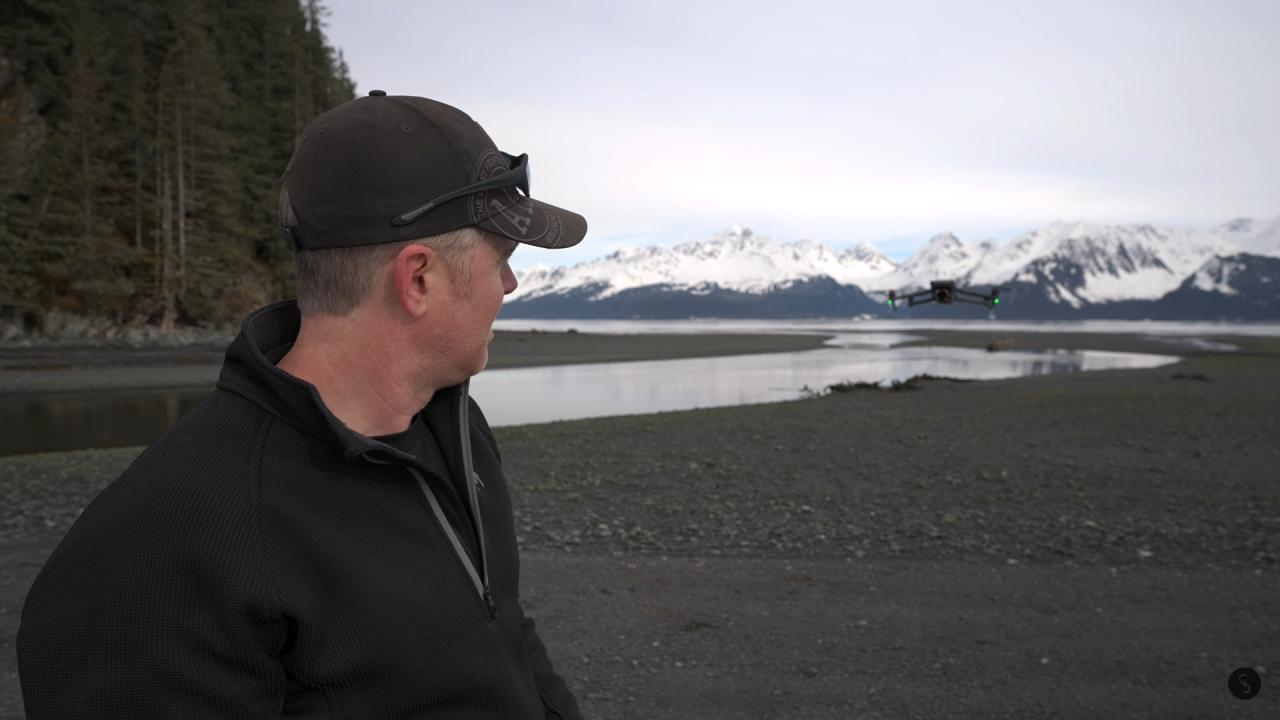Drone: (858, 266, 1026, 321)
